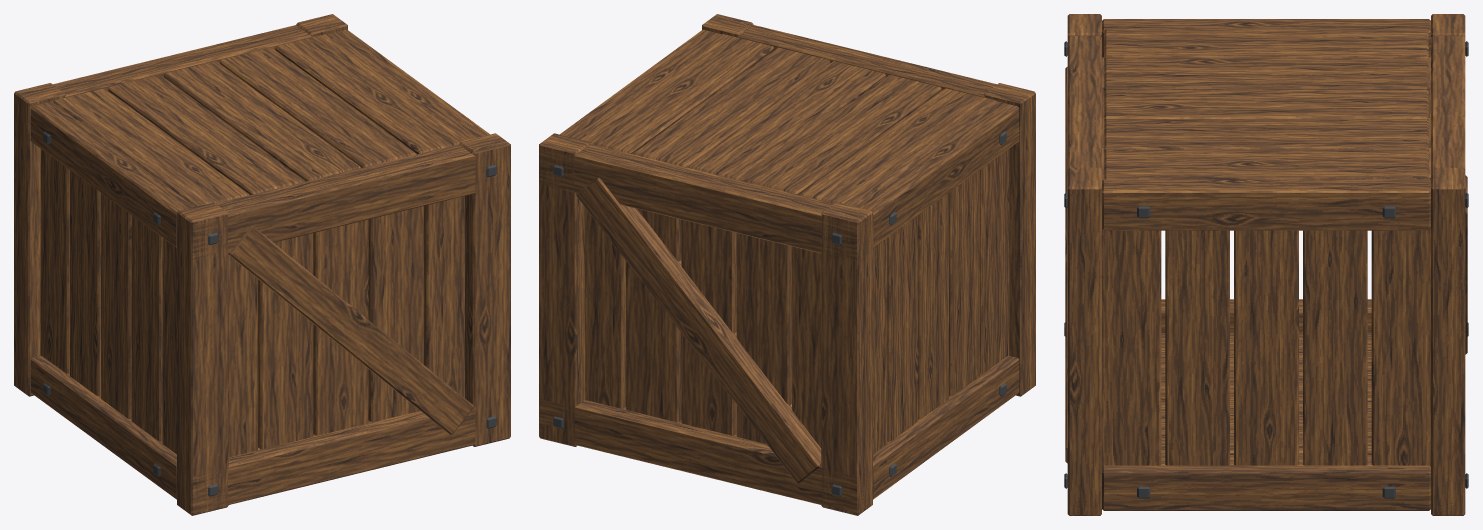
Rendered from supply_crate.glb.
3 views of the same model, side by side, from view 1: azimuth 30°, elevation 25°; view 2: azimuth 150°, elevation 25°; view 3: azimuth 270°, elevation 25° (orthographic). The views are drawn at different scales.
Parts seen in each view (by area): view 1: SupplyCratePlanks, SupplyCrateHardware; view 2: SupplyCratePlanks, SupplyCrateHardware; view 3: SupplyCratePlanks, SupplyCrateHardware.
Boxes of the visible parts, x1,y1,x2,y2 form: SupplyCratePlanks: (14, 14, 510, 515); SupplyCrateHardware: (43, 131, 496, 496); SupplyCratePlanks: (539, 14, 1035, 515); SupplyCrateHardware: (553, 131, 1006, 496); SupplyCratePlanks: (1065, 14, 1467, 515); SupplyCrateHardware: (1064, 41, 1468, 498).
Bounding box in the file's own units: 0.85 × 0.74 × 0.824.
2 materials, 1 textured.
